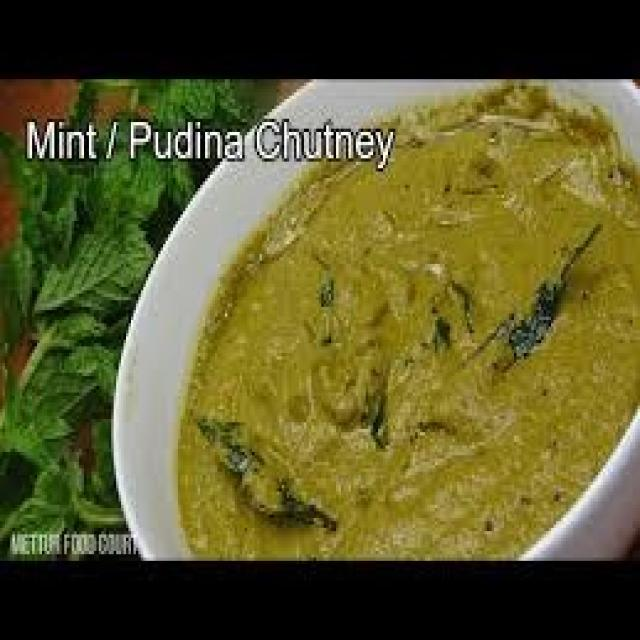puthina chutney: (175, 169, 640, 551)
